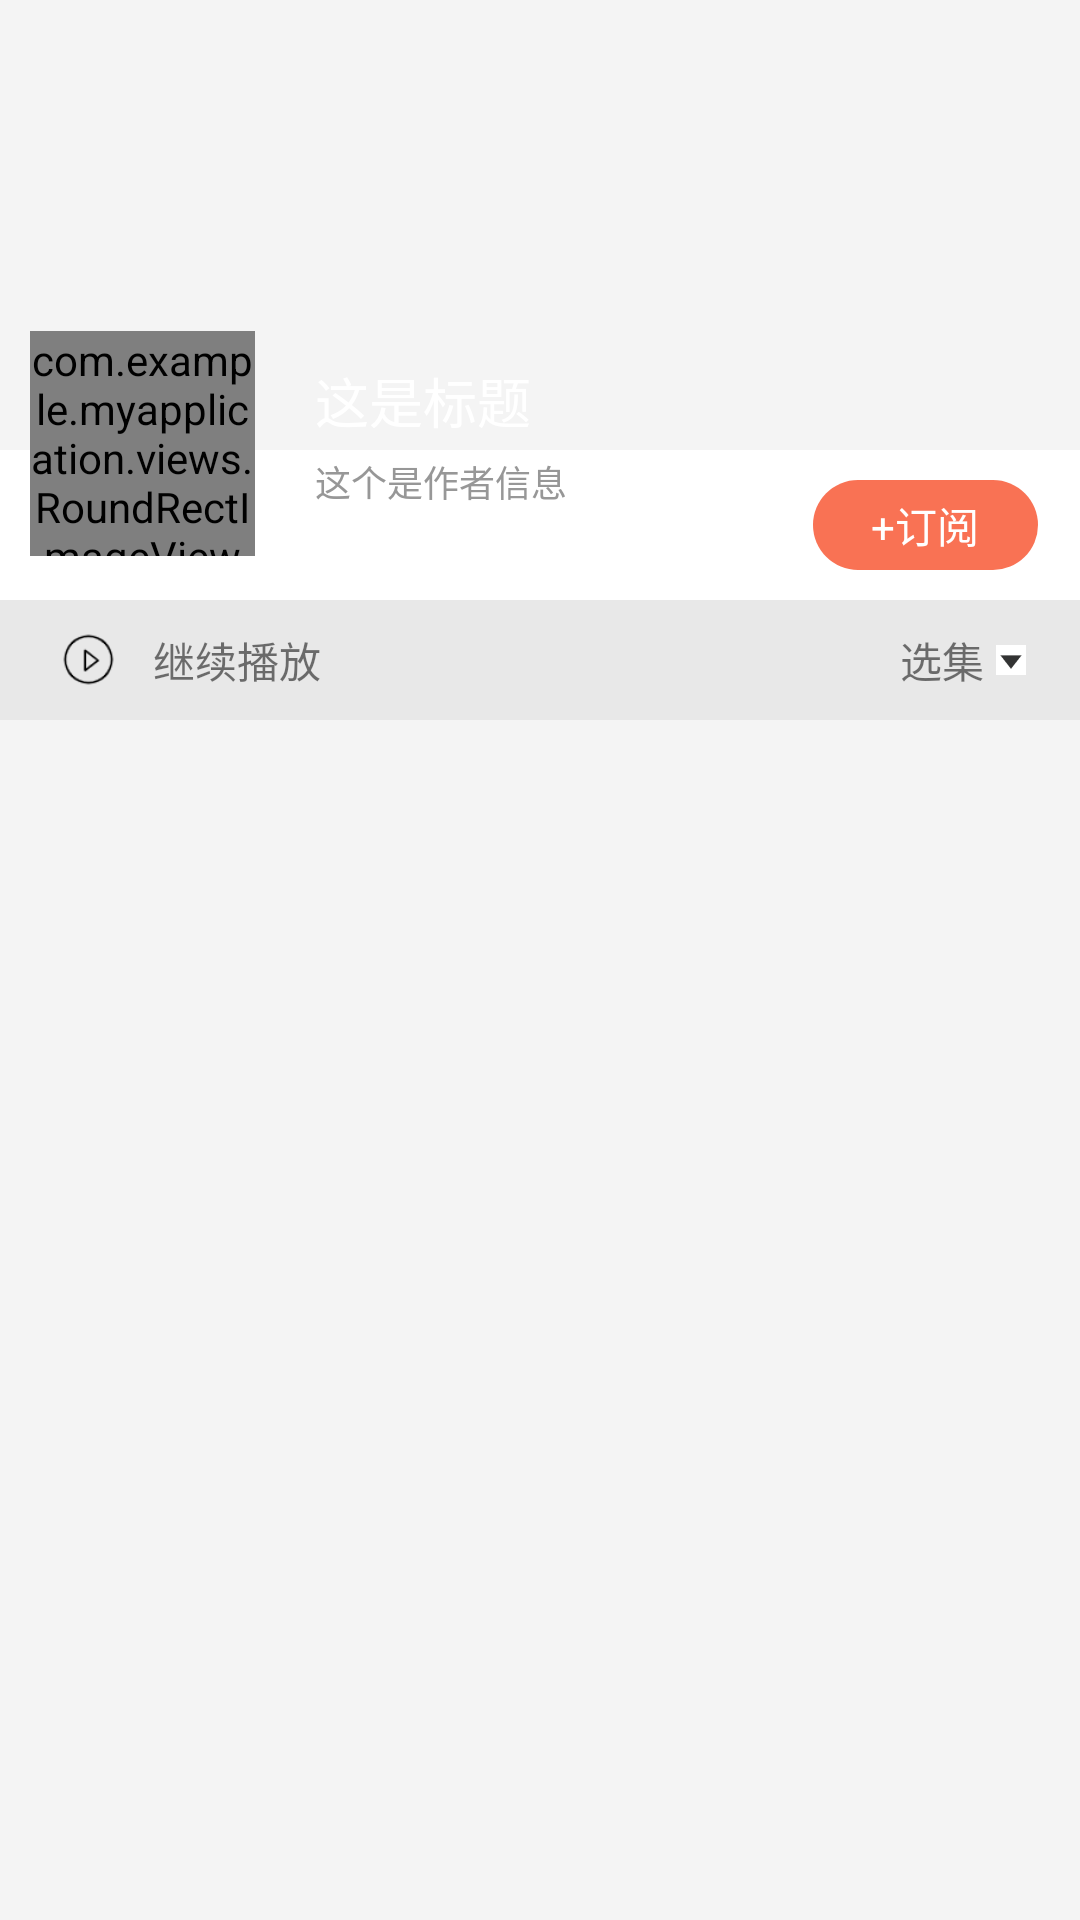

Screen size 1080 × 1920. Icon name, then its center in pixels as (x,y):
detail play: (88,659)
